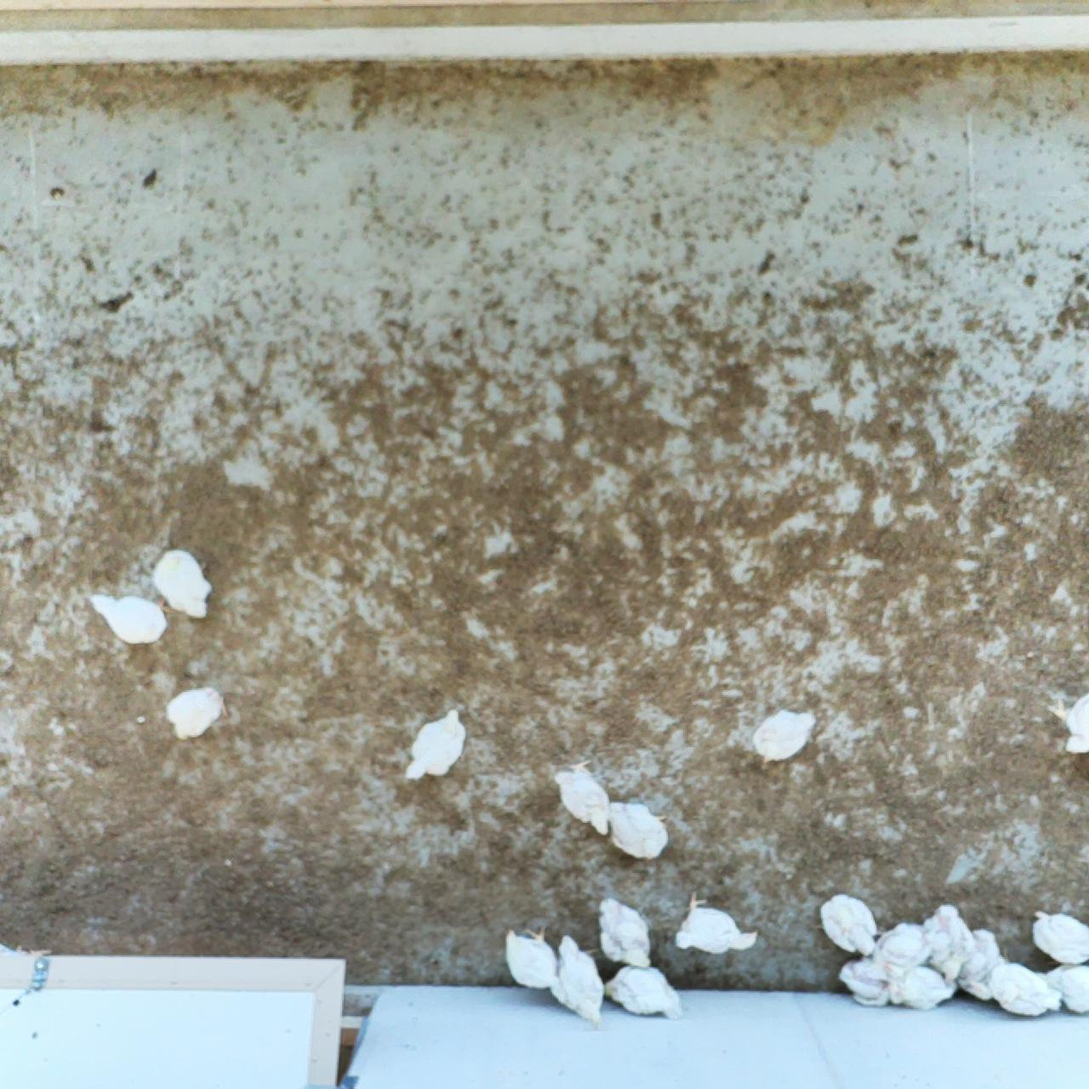chicken: (677, 893, 759, 955), (403, 704, 466, 783), (556, 757, 613, 835), (989, 961, 1065, 1019), (88, 592, 168, 645), (155, 548, 214, 619), (604, 970, 682, 1023), (752, 706, 820, 766), (558, 932, 602, 1024), (924, 907, 975, 984), (822, 893, 880, 960), (599, 898, 653, 968), (611, 801, 670, 861), (165, 686, 230, 740), (887, 966, 958, 1012), (839, 958, 902, 1009), (878, 926, 951, 970), (509, 931, 563, 990), (1033, 909, 1089, 961), (1045, 965, 1089, 1014), (1055, 694, 1089, 755), (968, 931, 999, 995)
